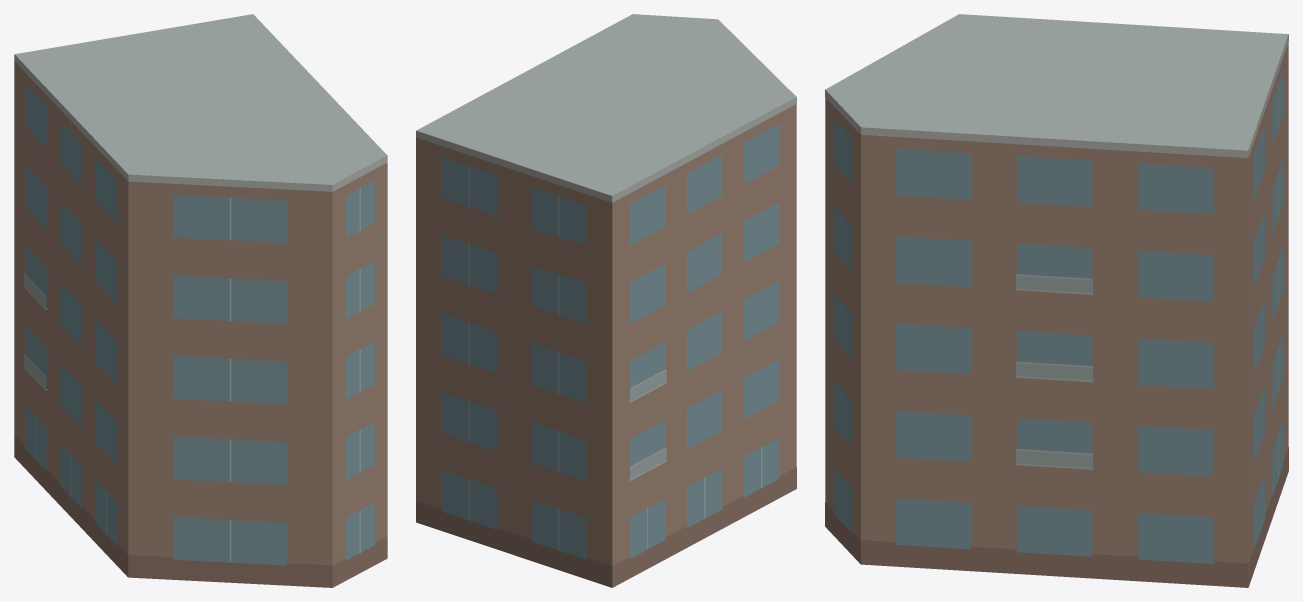
The model's file is survey-upis-32712352.glb.
The picture shows the model from 3 angles, left to right: view 1: azimuth 30°, elevation 25°; view 2: azimuth 150°, elevation 25°; view 3: azimuth 270°, elevation 25°; orthographic projection. The views are drawn at different scales.
Visible parts, largest first — view 1: survey-upis-32712352.tmp; view 2: survey-upis-32712352.tmp; view 3: survey-upis-32712352.tmp.
Part boxes in pixels (left/top/right/bottom): survey-upis-32712352.tmp: left=14, top=14, right=387, bottom=587; survey-upis-32712352.tmp: left=416, top=14, right=796, bottom=587; survey-upis-32712352.tmp: left=825, top=14, right=1288, bottom=587.
Size of the model in its own units: 9.54 by 14.2 by 13.65.
